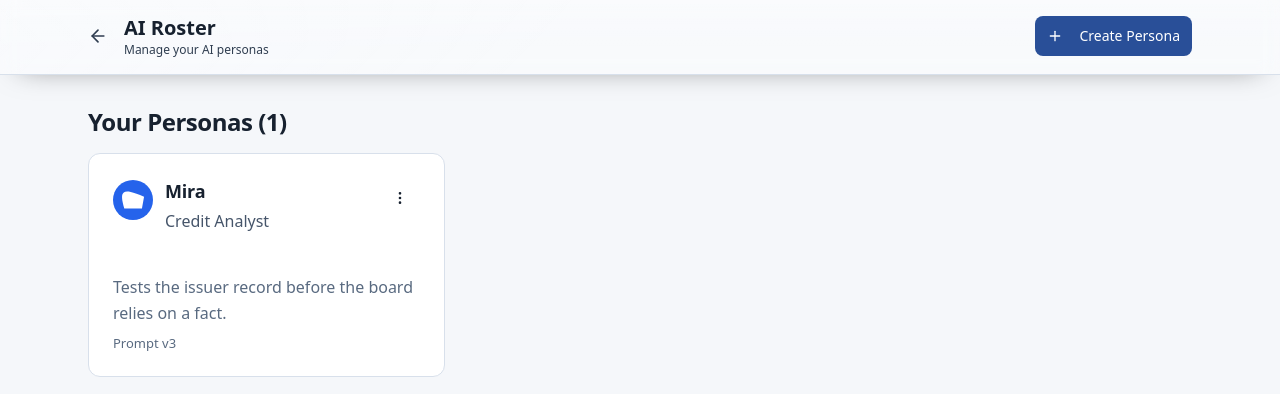
Test case: shared roster command flow › duplicates metadata and the active prompt without stack ids or history
This screenshot has width=1280, height=394.
Expected: the text "Mira" is shown, [165, 179, 205, 203]
Expected: the text "Tests the issuer record before the board relies on a fact." is shown, [113, 274, 420, 326]
Press the mouse on the button named "Actions for Mira" at (400, 198), box [380, 178, 420, 218]
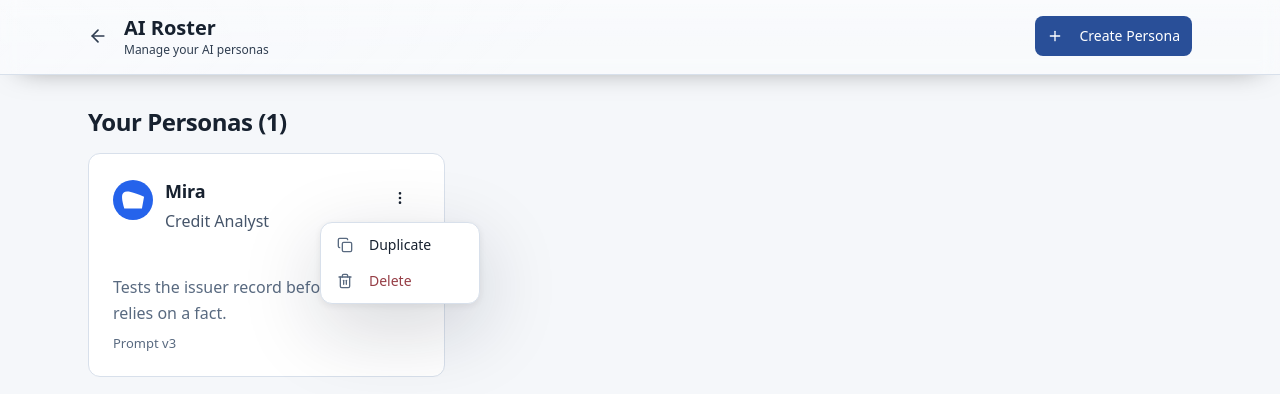
Click the menu item "Duplicate" at (384, 244), box [337, 235, 431, 254]
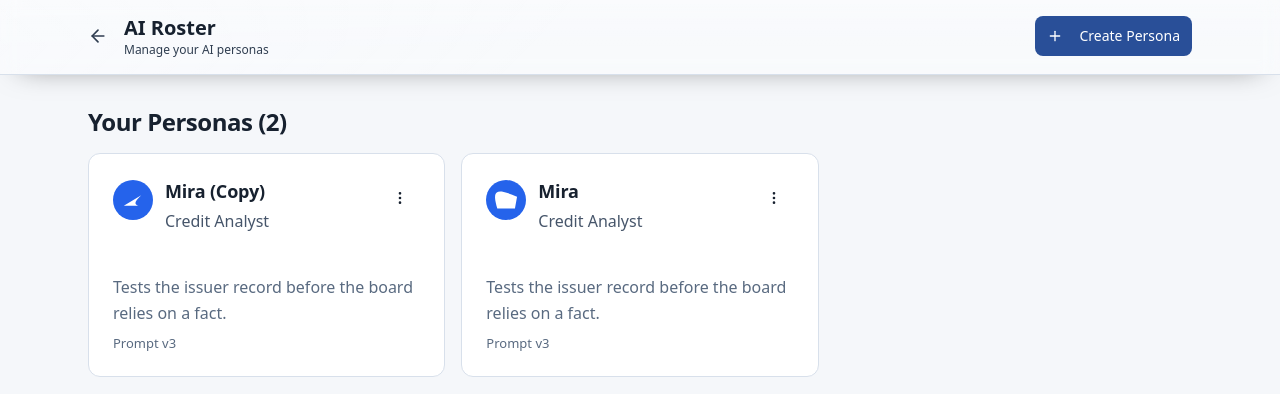
Expected: the text "Mira (Copy)" is shown, [165, 179, 265, 203]
